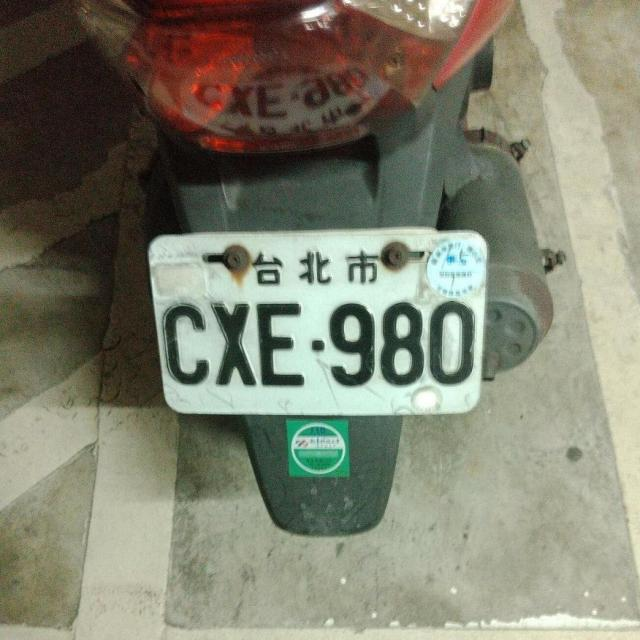W: (138, 209, 498, 420)
